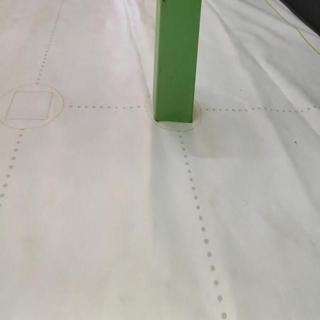greenbox: (154, 1, 203, 125)
